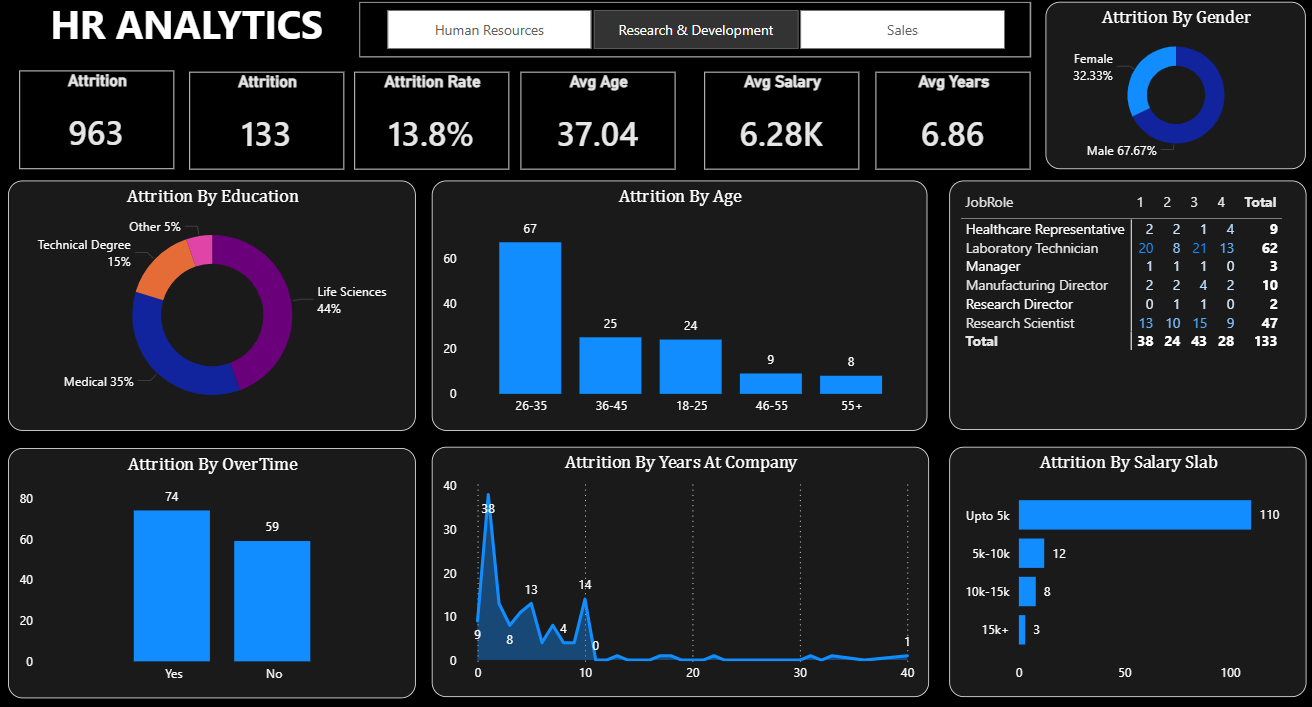

This screenshot's page, from the dashboard's own definition file:
{"tool":"powerbi","page":{"name":"HR Analytics Clean","canvas":[1280,720],"ordinal":0},"visuals":[{"type":"donutChart","title":"Attrition By Education","fields":{"Category":["HR Analytics Clean.EducationField"],"Y":["Sum(HR Analytics Clean.AttritionCountclean)"]},"box":[14.7,180.4,393.9,241.7],"z":0},{"type":"columnChart","title":"Attrition By Age","fields":{"Category":["HR Analytics Clean.AgeGroup"],"Y":["Sum(HR Analytics Clean.AttritionCountclean)"]},"box":[423.3,180.4,478.5,241.7],"z":1000},{"type":"pivotTable","fields":{"Rows":["HR Analytics Clean.JobRole"],"Columns":["HR Analytics Clean.JobSatisfaction"],"Values":["Sum(HR Analytics Clean.AttritionCountclean)"]},"box":[923.2,181,344.8,240.9],"z":2000},{"type":"barChart","title":"Attrition By Salary Slab","fields":{"Category":["HR Analytics Clean.SalarySlab"],"Y":["Sum(HR Analytics Clean.AttritionCountclean)"]},"box":[922.7,438,344.8,241.7],"z":3000},{"type":"areaChart","title":"Attrition By Years At Company","fields":{"Y":["Sum(HR Analytics Clean.AttritionCountclean)"],"Category":["HR Analytics Clean.YearsAtCompany"]},"box":[423.3,438,479.8,241.7],"z":4000},{"type":"textbox","box":[25.8,0,322.7,60.1],"z":5000},{"type":"cardVisual","title":"Avg Age","fields":{"Data":["Avg(HR Analytics Clean.Age)"]},"box":[509.2,76.1,149.7,94.5],"z":6000},{"type":"cardVisual","title":"Attrition Rate","fields":{"Data":["HR Analytics Clean.AttritionRate"]},"box":[348.5,76.1,149.7,94.5],"z":7000},{"type":"cardVisual","title":"Attrition","fields":{"Data":["Sum(HR Analytics Clean.AttritionCountclean)"]},"box":[189,76.1,149.7,94.5],"z":8000},{"type":"cardVisual","title":"Avg Years","fields":{"Data":["Avg(HR Analytics Clean.YearsAtCompany)"]},"box":[851.5,76.1,149.7,94.5],"z":9000},{"type":"cardVisual","title":"Avg Salary","fields":{"Data":["Avg(HR Analytics Clean.MonthlyIncome)"]},"box":[685.9,76.1,149.7,94.5],"z":10000},{"type":"donutChart","title":"Attrition By Gender","fields":{"Category":["HR Analytics Clean.Gender"],"Y":["Sum(HR Analytics Clean.AttritionCountclean)"]},"box":[1016,8.6,251.5,162],"z":11000},{"type":"slicer","fields":{"Values":["HR Analytics Clean.Department"]},"box":[353.4,8.6,647.9,54],"z":12000},{"type":"columnChart","title":"Attrition By OverTime","fields":{"Category":["HR Analytics Clean.OverTime"],"Y":["Sum(HR Analytics Clean.AttritionCountclean)"]},"box":[14.7,439.3,393.9,241.7],"z":13000},{"type":"cardVisual","title":"Attrition","fields":{"Data":["CountNonNull(HR Analytics Clean.EmpID)"]},"box":[25.3,74.8,149.6,95.3],"z":14000}]}

Visuals, with their boxes in screenshot pixels (x1, y1, x2, y2):
"Attrition By Education" donutChart: l=2, t=140, r=412, b=392
"Attrition By Age" columnChart: l=427, t=140, r=925, b=392
pivotTable - HR Analytics Clean.JobRole x HR Analytics Clean.JobSatisfaction: l=948, t=141, r=1307, b=391
"Attrition By Salary Slab" barChart: l=947, t=408, r=1306, b=660
"Attrition By Years At Company" areaChart: l=427, t=408, r=927, b=660
textbox: l=13, t=0, r=349, b=15
"Avg Age" cardVisual: l=517, t=31, r=672, b=130
"Attrition Rate" cardVisual: l=349, t=31, r=505, b=130
"Attrition" cardVisual: l=183, t=31, r=339, b=130
"Avg Years" cardVisual: l=873, t=31, r=1029, b=130
"Avg Salary" cardVisual: l=701, t=31, r=856, b=130
"Attrition By Gender" donutChart: l=1044, t=0, r=1306, b=130
slicer - HR Analytics Clean.Department: l=354, t=0, r=1029, b=17
"Attrition By OverTime" columnChart: l=2, t=410, r=412, b=661
"Attrition" cardVisual: l=13, t=30, r=168, b=129
